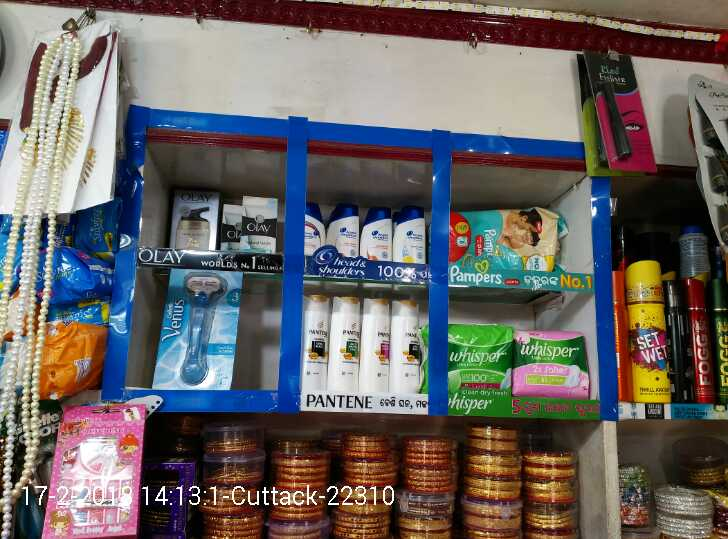venus: (156, 272, 240, 387)
